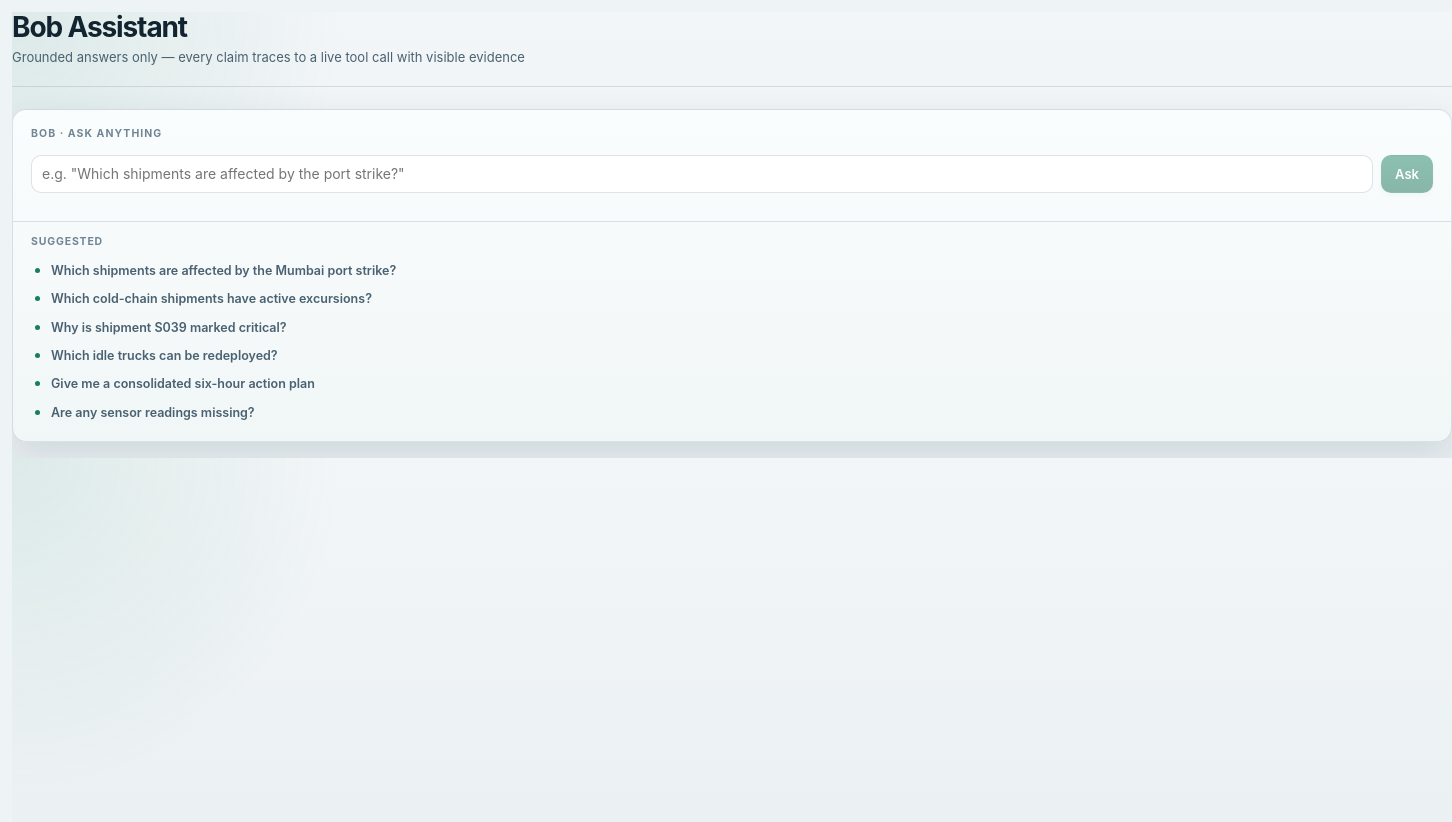
Test case: S13 Bob chat › treats the 503 as a first-class fallback state (no fake answers)
The width and height of the screenshot is (1452, 822).
Type "Give me an action plan" into the field with placeholder "e.g. \"Which shipments are affected by the port strike?\"". click: (702, 174)
box: [31,155,1373,193]
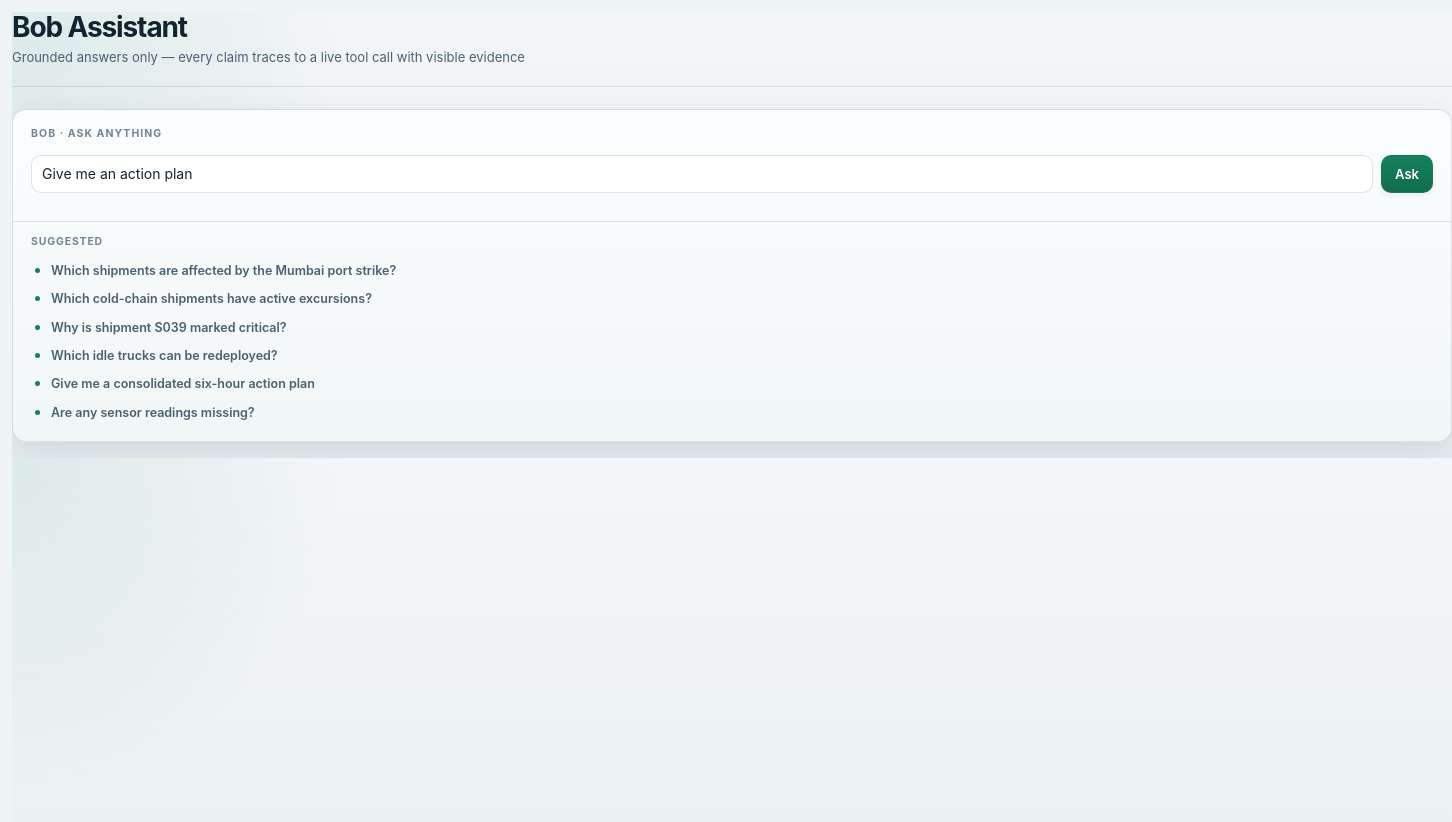
Click the button "Ask". click: (1407, 174)
box: [1381,155,1433,193]
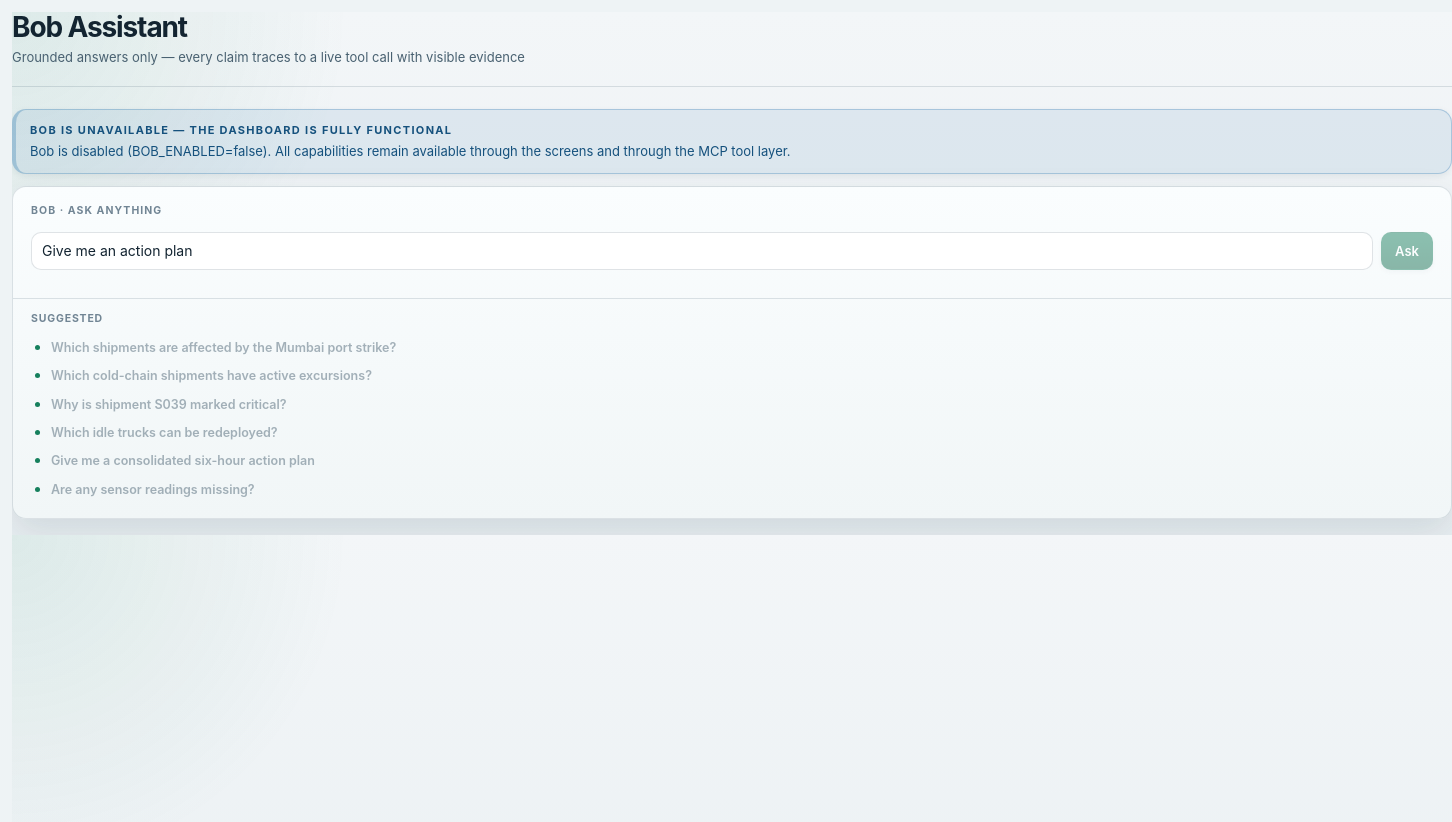
Check: the text "Bob is unavailable — the dashboard is fully functional" is shown, box [30,123,452,137]
Check: the field with placeholder "e.g. \"Which shipments are affected by the port strike?\"" is disabled, box [31,232,1373,270]
